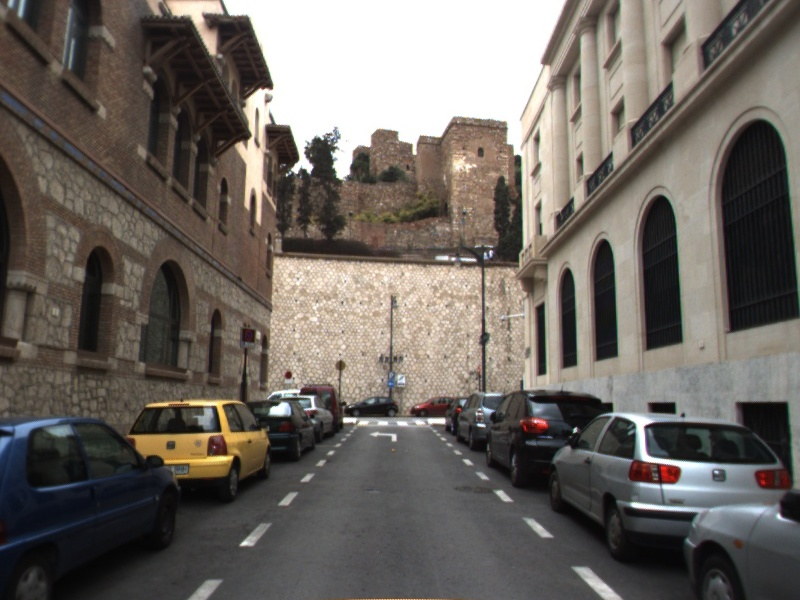LEFT: (367, 429, 399, 444)
